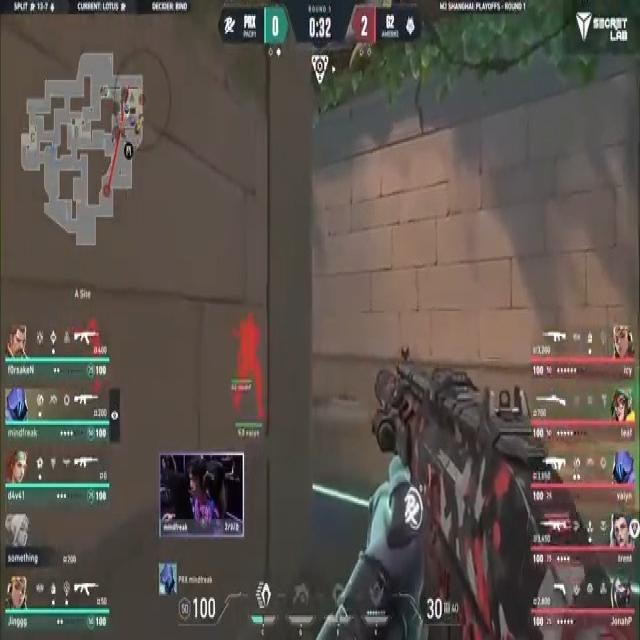enemy behind wall: (233, 307, 270, 420)
